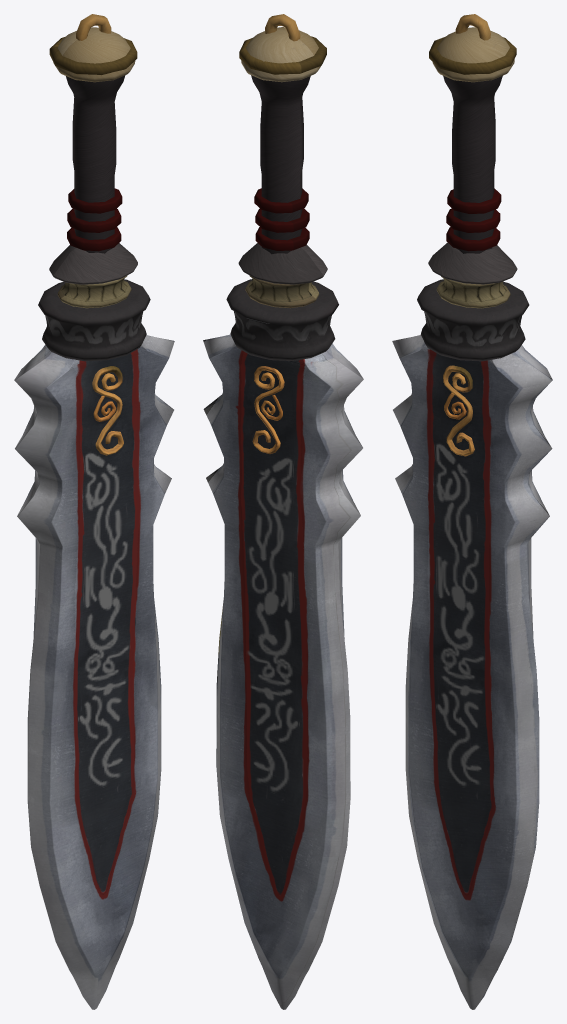
File: Long Sword.fbx
3 views of the same model, side by side, from view 1: azimuth 30°, elevation 25°; view 2: azimuth 150°, elevation 25°; view 3: azimuth 330°, elevation 25° (orthographic).
Visible parts, largest first — view 1: polySurface41; view 2: polySurface41; view 3: polySurface41.
Part boxes in pixels (x1,y1,x2,y2): polySurface41: (14, 14, 174, 1009); polySurface41: (203, 14, 363, 1009); polySurface41: (392, 14, 552, 1009).
Bounding box in the file's own units: 43.17 × 23.64 × 255.
Materials: 1 (1 with a texture image).
